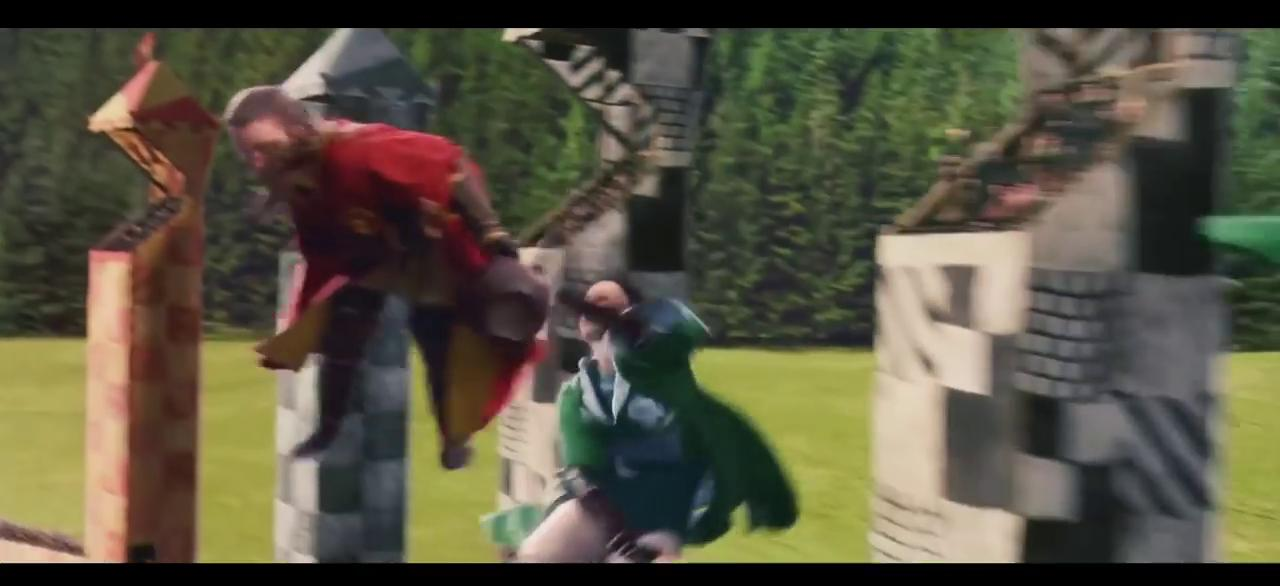quaffle: (469, 257, 548, 342)
